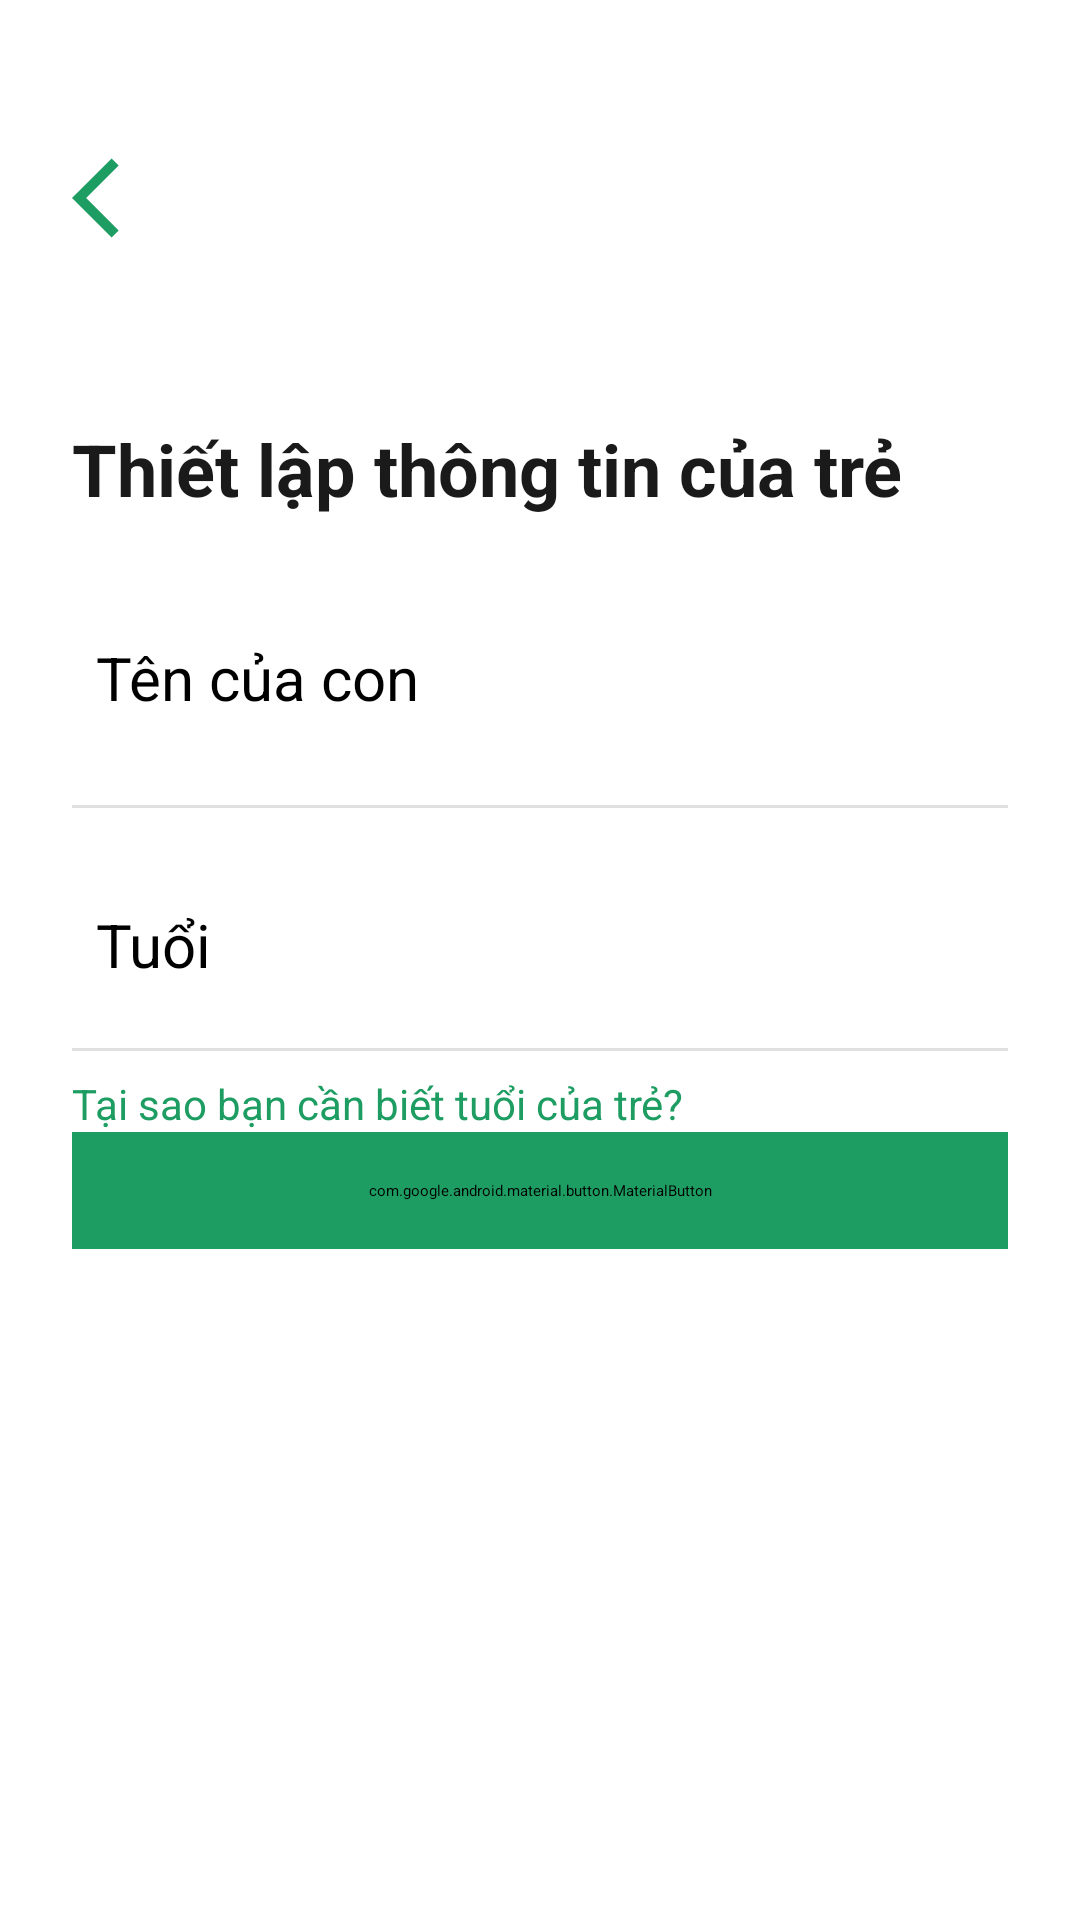

Screen size 1080px×1920px. Icon name, then its box in pixels as (x1, y1, x2, y2):
back: (72, 158, 119, 238)
